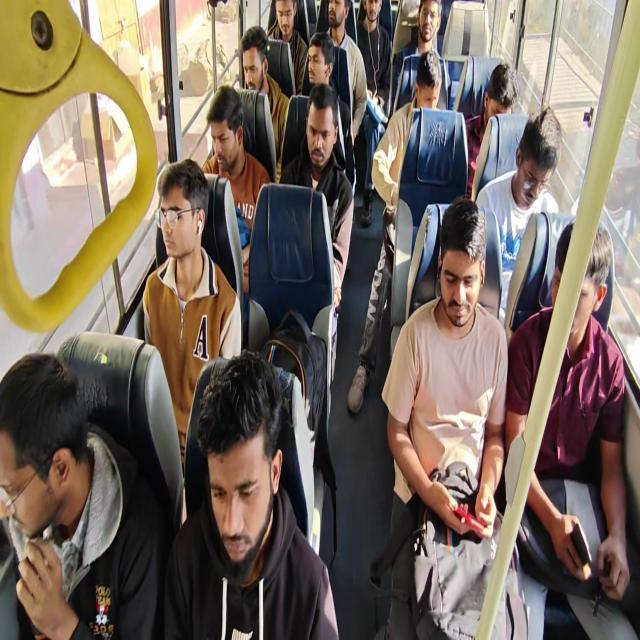person: (190, 364, 287, 562), (3, 369, 86, 549), (431, 218, 486, 344), (143, 164, 211, 245), (542, 248, 602, 334), (203, 80, 242, 158), (521, 125, 554, 212), (307, 103, 342, 184), (478, 74, 512, 130), (415, 59, 447, 112), (240, 31, 268, 91), (307, 36, 338, 80), (418, 6, 442, 43), (274, 1, 298, 38), (323, 0, 349, 30), (362, 0, 383, 28)
